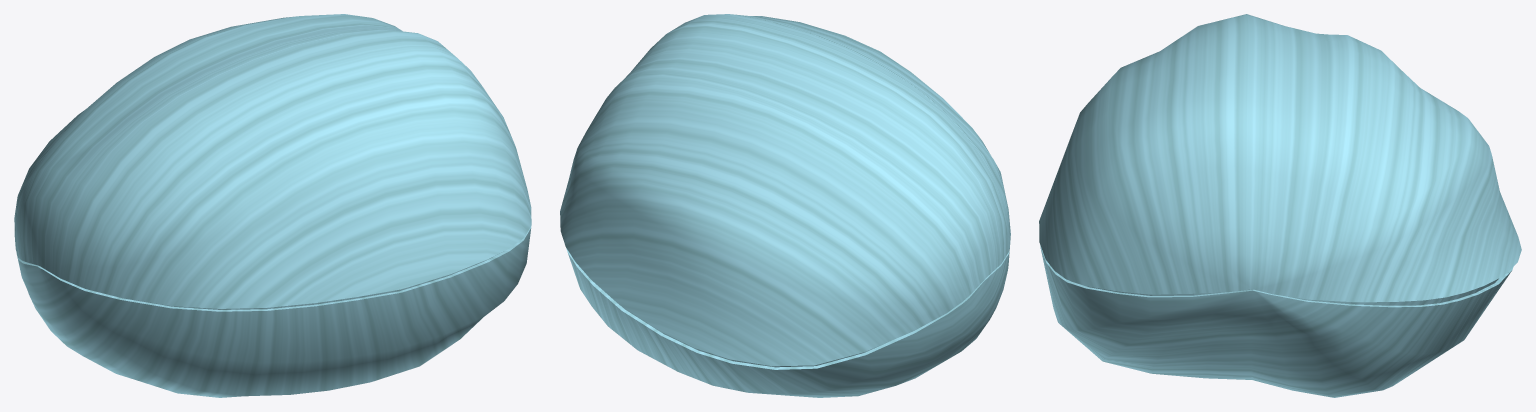
File: VAM.fbx
The picture shows the model from 3 angles, left to right: view 1: azimuth 30°, elevation 25°; view 2: azimuth 150°, elevation 25°; view 3: azimuth 270°, elevation 25°; orthographic projection. The views are drawn at different scales.
Parts seen in each view (by area): view 1: VAM; view 2: VAM; view 3: VAM.
Boxes of the visible parts, <box> form: VAM: <box>14,14,531,397</box>; VAM: <box>560,14,1010,397</box>; VAM: <box>1039,14,1521,397</box>.
Size of the model in its own units: 73.13 by 48.43 by 69.57.
Materials: 1 (1 with a texture image).
